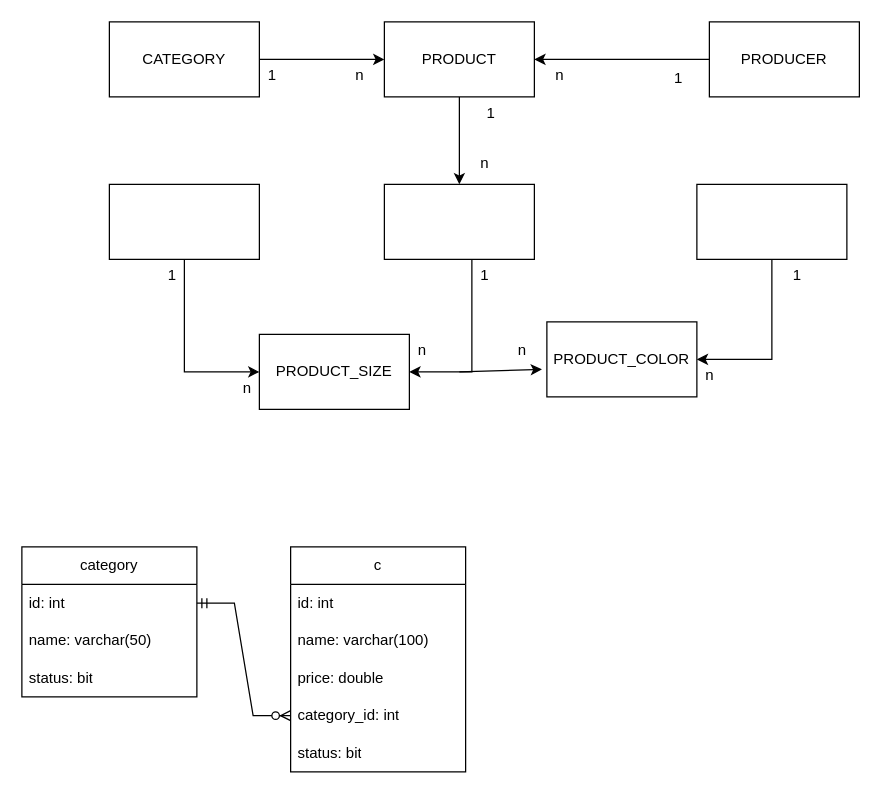
Image size: 881x794. Some labels were removed from this diagram. Here are the shapes that lost their labels. From the top down, the box of each, then its label:
(108, 183, 259, 259): SIZE
(383, 183, 534, 259): DETAIL_PRODUCT
(696, 183, 847, 259): COLOR
